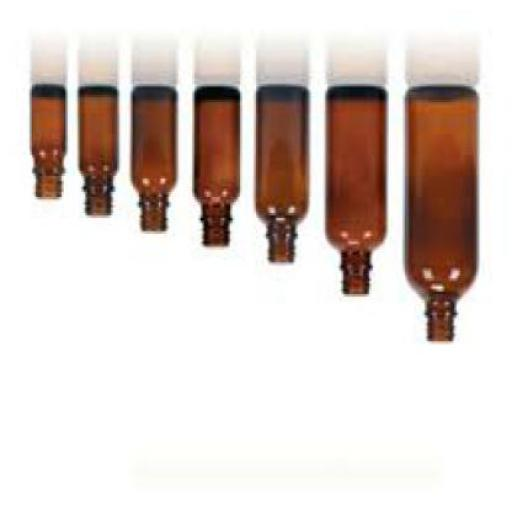glass: (402, 87, 476, 344), (326, 87, 384, 296), (252, 87, 310, 265), (193, 92, 240, 252), (129, 89, 175, 237), (76, 92, 115, 218), (28, 90, 63, 202)
